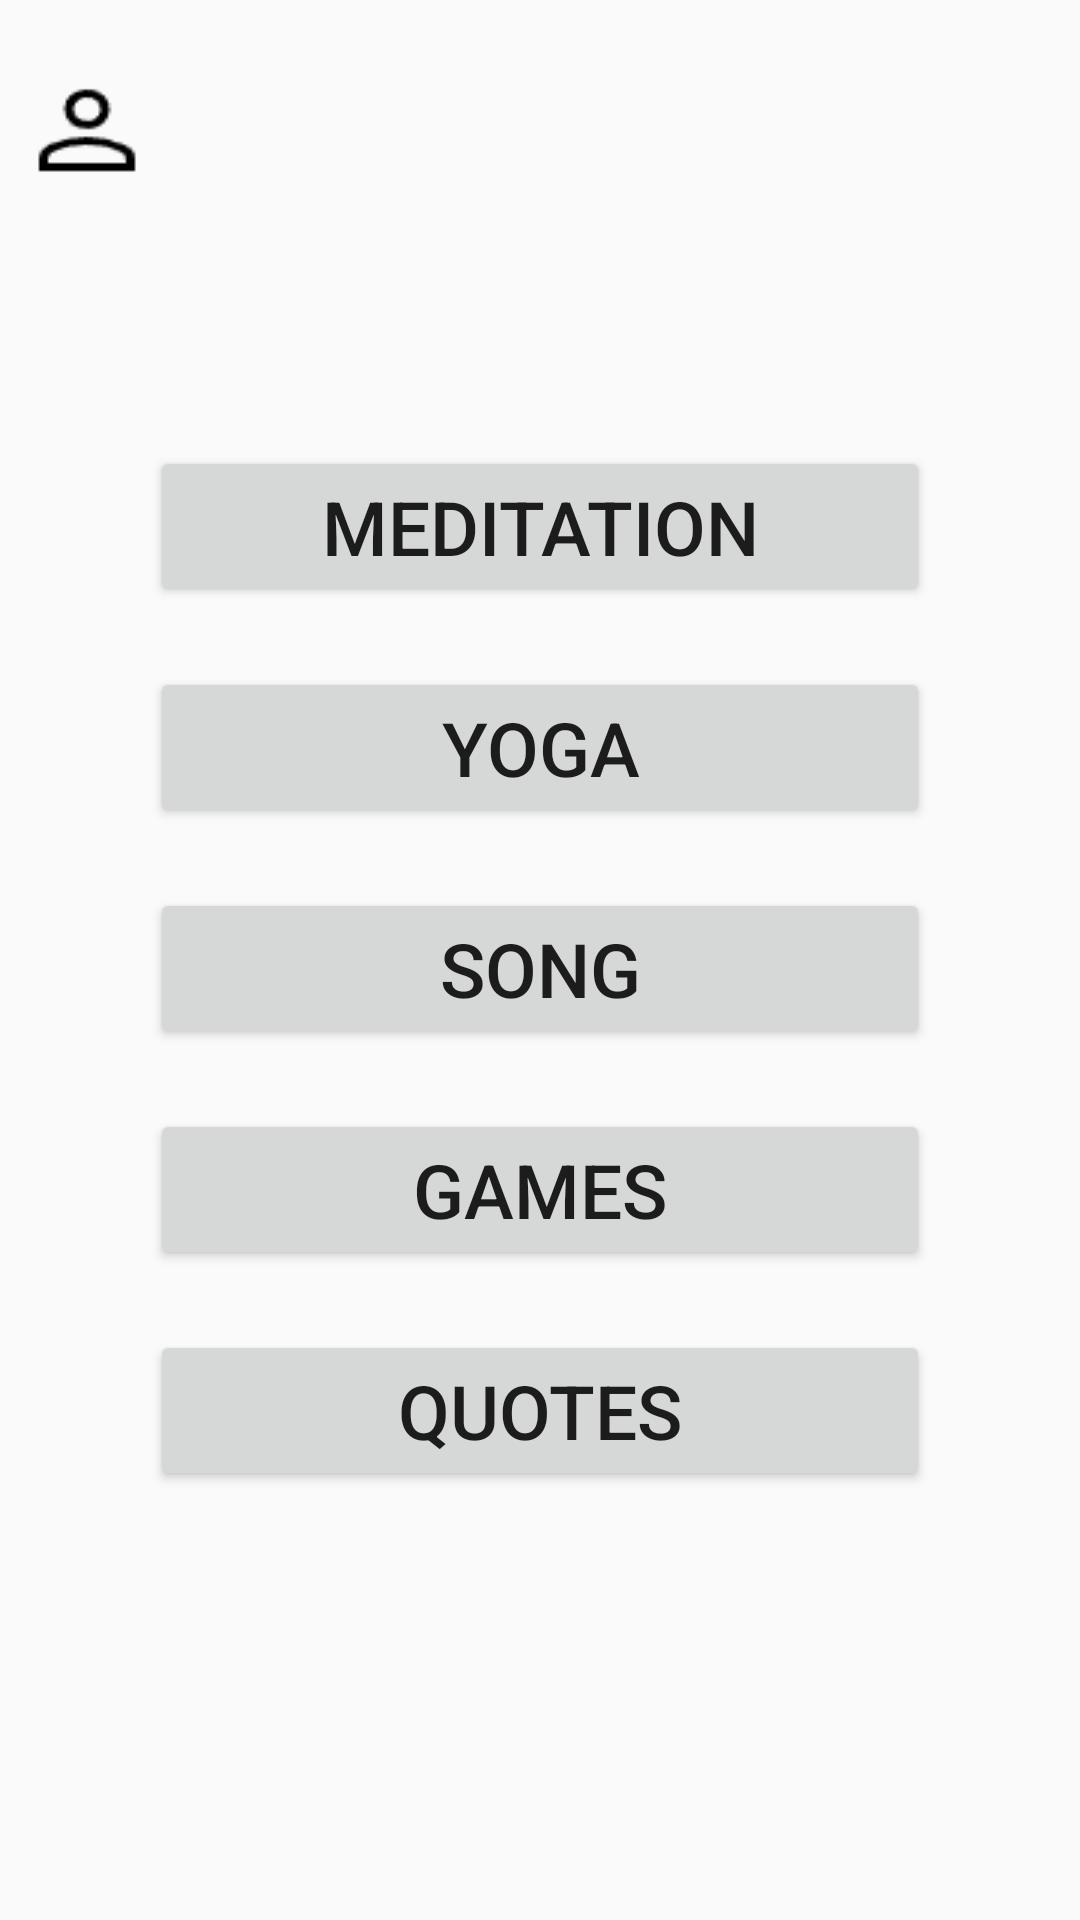

Screen size 1080px x 1920px. Icon name, then its center in pixels as (x=x, y=y):
person: (x=87, y=130)
